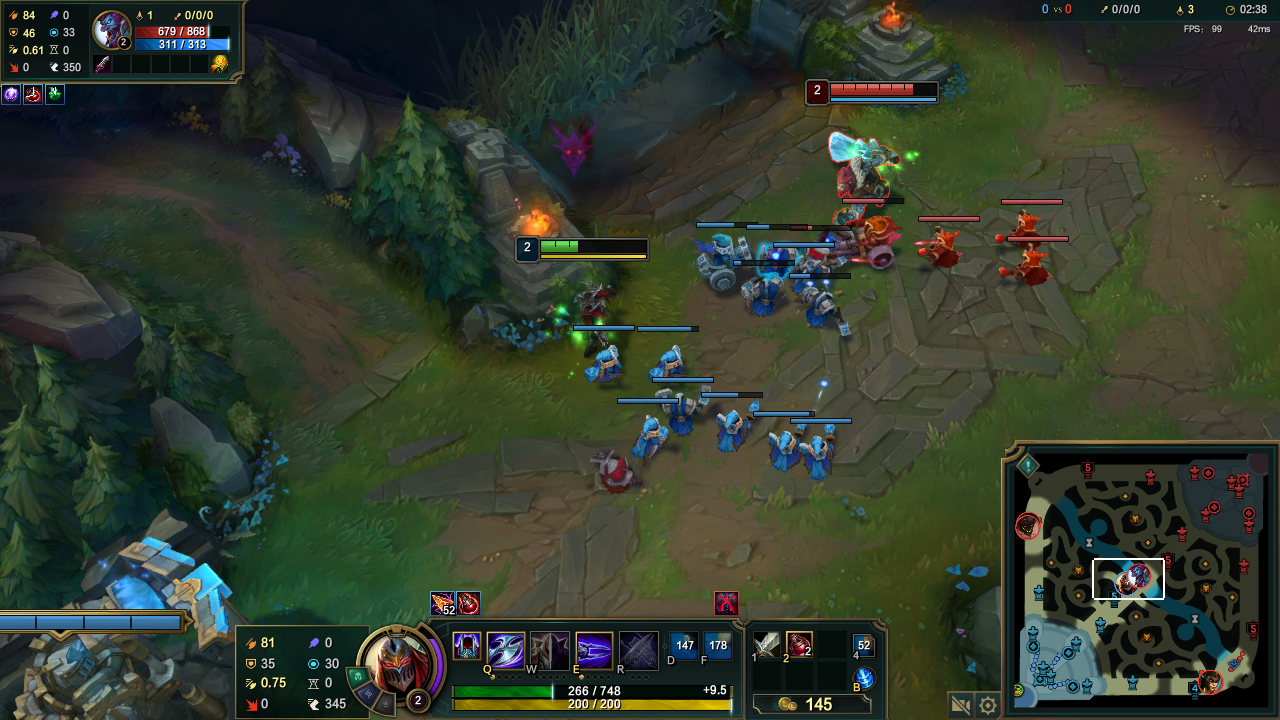DFYX: (828, 84, 937, 96)
WFXB: (691, 235, 752, 291)
